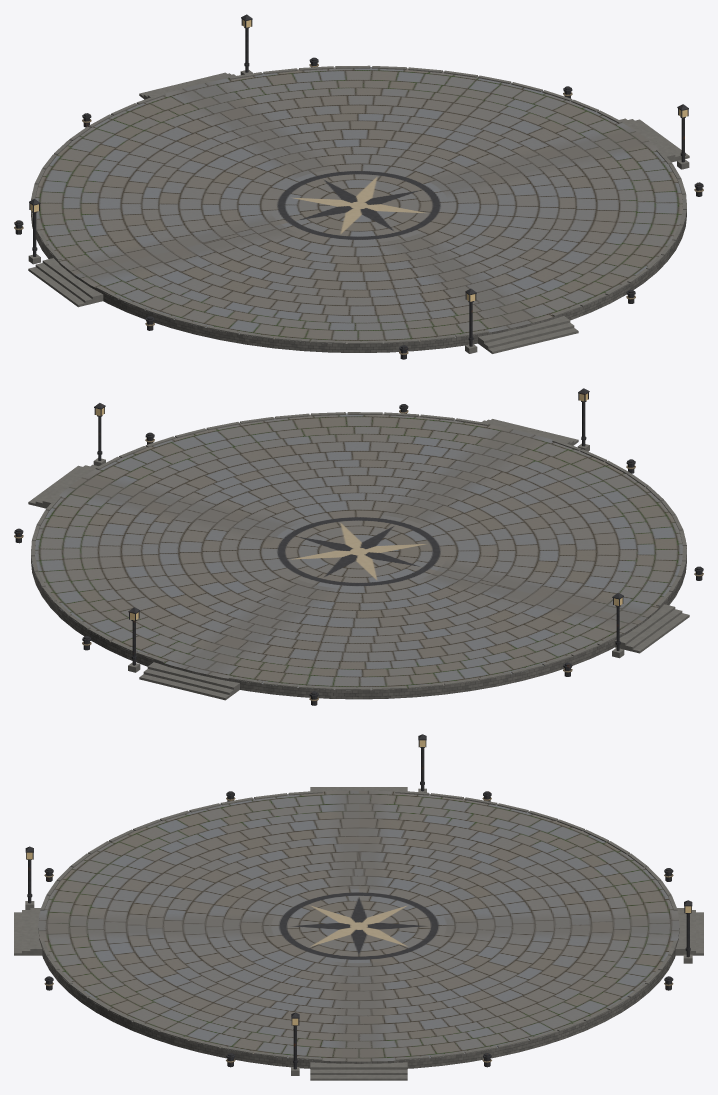
File: 스토리단상.fbx
3 views of the same model, one above another, from view 1: azimuth 30°, elevation 25°; view 2: azimuth 150°, elevation 25°; view 3: azimuth 270°, elevation 25° (orthographic). The views are drawn at different scales.
Visible parts, largest first — view 1: 스토리단상; view 2: 스토리단상; view 3: 스토리단상.
Part boxes in pixels (x1,y1,x2,y2): 스토리단상: [14, 14, 703, 359]; 스토리단상: [14, 388, 703, 705]; 스토리단상: [14, 734, 703, 1080].
Size of the model in its own units: 7100 by 700 by 7100.
6 materials, 6 textured.
